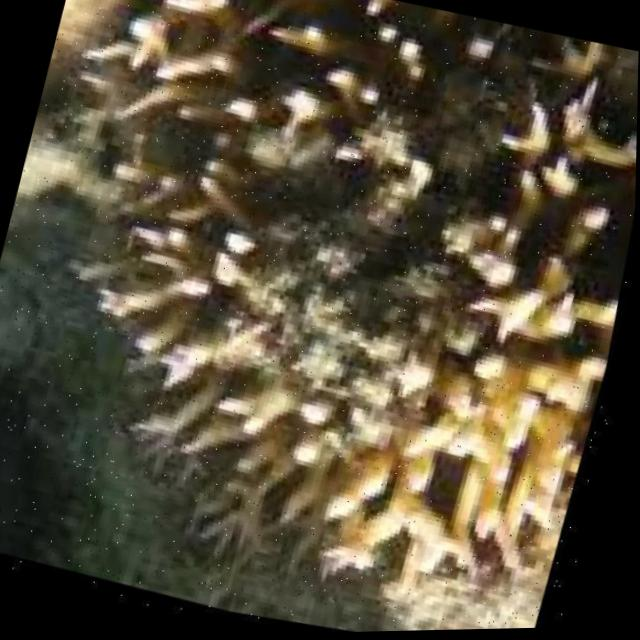Bleached Coral: (14, 0, 640, 630)
